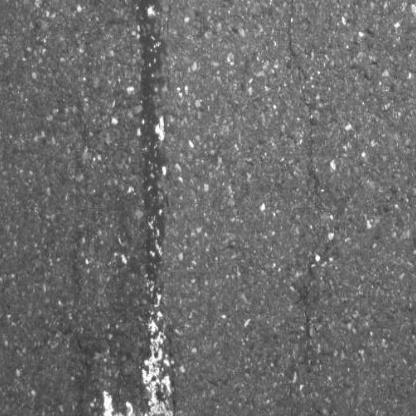Cracks: (296, 78, 328, 209), (283, 0, 308, 62), (295, 305, 316, 370), (296, 253, 319, 298)
